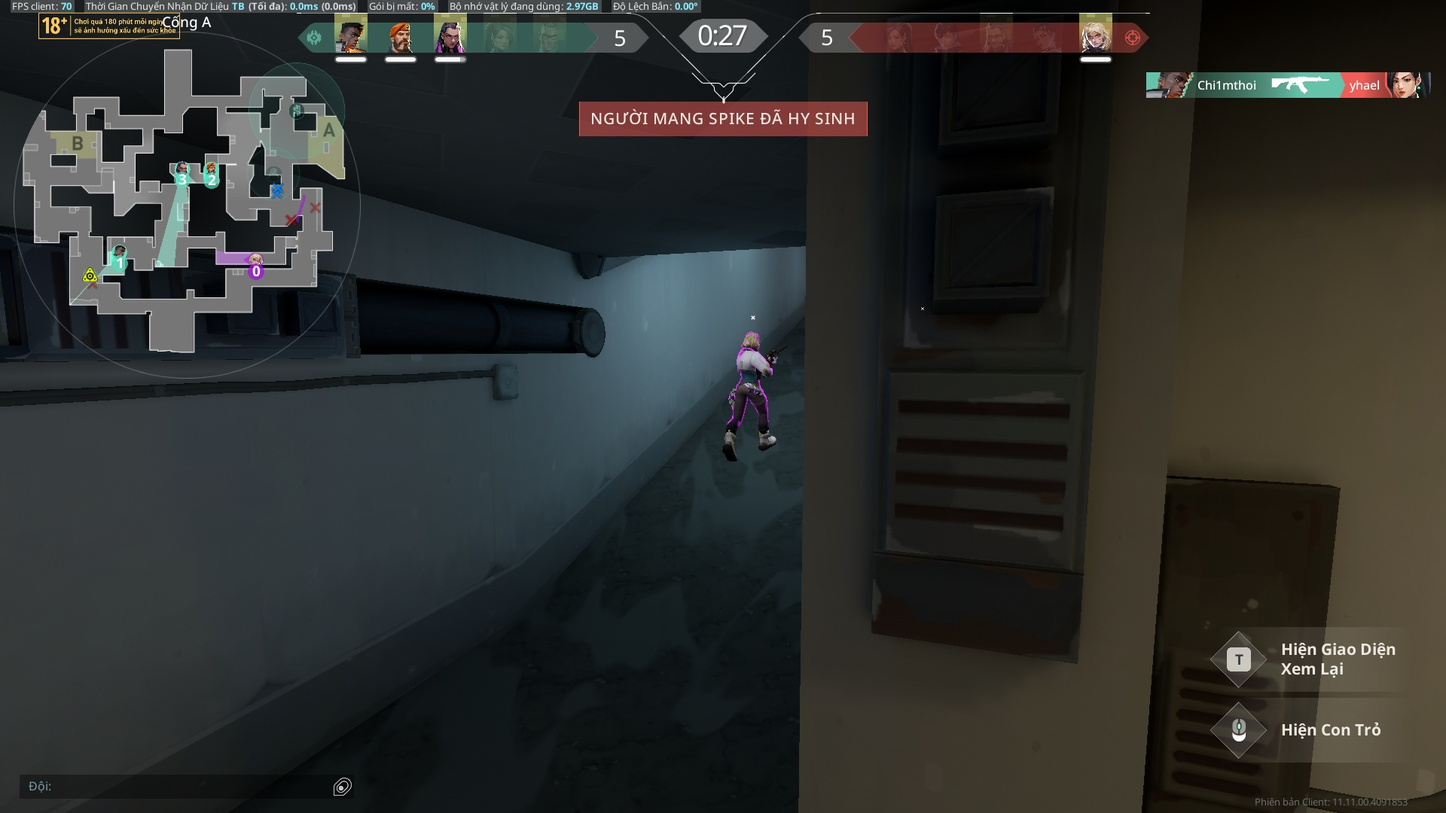body: (734, 347, 761, 380)
head: (743, 331, 759, 349)
